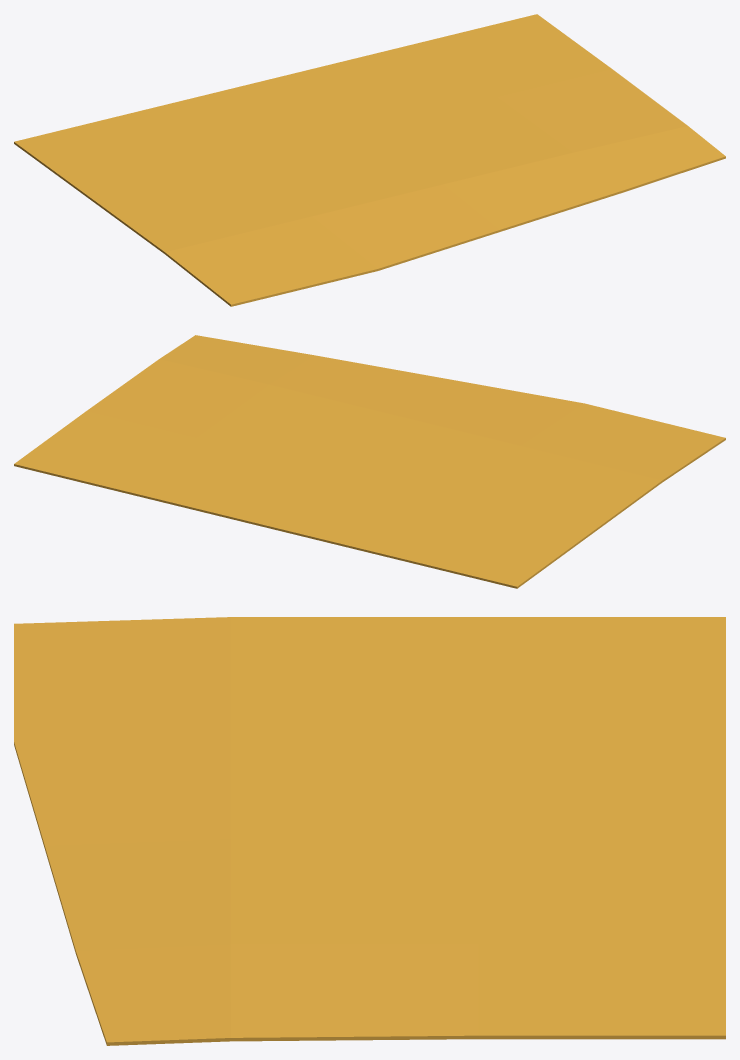
3 views of the same model, one above another, from view 1: azimuth 30°, elevation 25°; view 2: azimuth 150°, elevation 25°; view 3: azimuth 270°, elevation 25° (orthographic). The views are drawn at different scales.
Parts seen in each view (by area): view 1: 01_street_base_plate-COL.047; view 2: 01_street_base_plate-COL.047; view 3: 01_street_base_plate-COL.047.
Boxes of the visible parts, left/top/right/bottom form: 01_street_base_plate-COL.047: left=14, top=14, right=725, bottom=306; 01_street_base_plate-COL.047: left=14, top=335, right=725, bottom=588; 01_street_base_plate-COL.047: left=14, top=617, right=725, bottom=1045.
Bounding box in the file's own units: 256 × 2.92 × 184.
